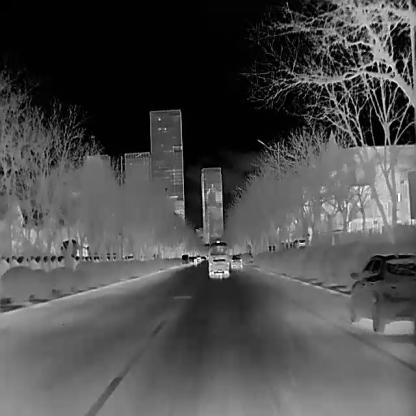bus: (206, 240, 230, 278)
car: (346, 254, 416, 333), (229, 253, 242, 268), (180, 254, 189, 264), (196, 254, 201, 262), (188, 256, 193, 263), (193, 256, 196, 263)
